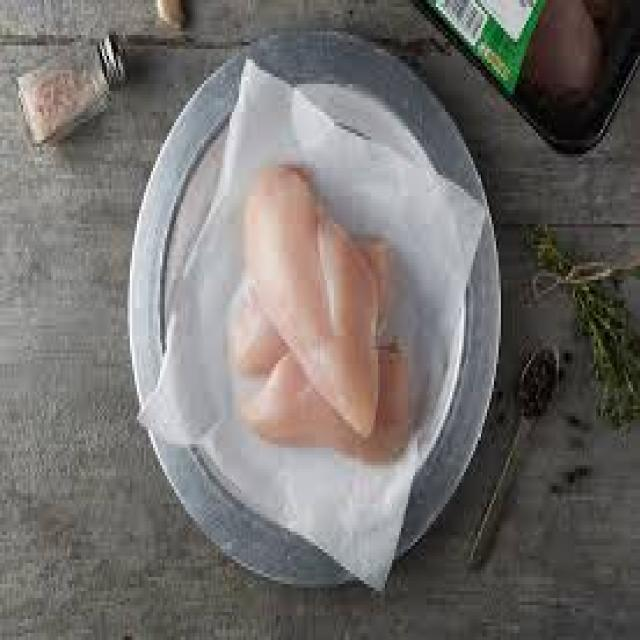chicken: (228, 159, 382, 435), (246, 340, 411, 458)
